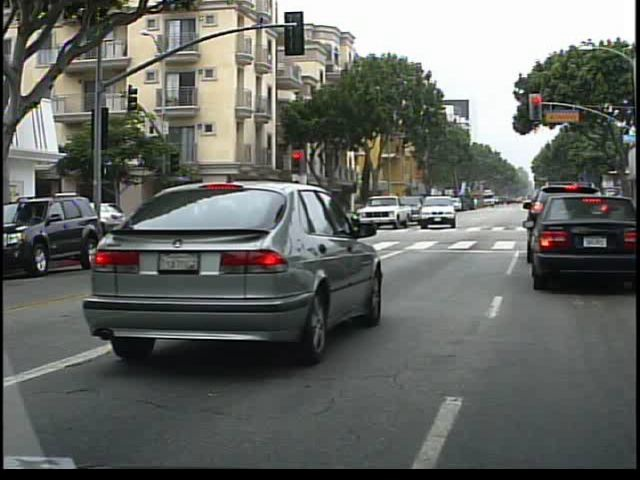person: (184, 191, 202, 237), (204, 193, 222, 234)
